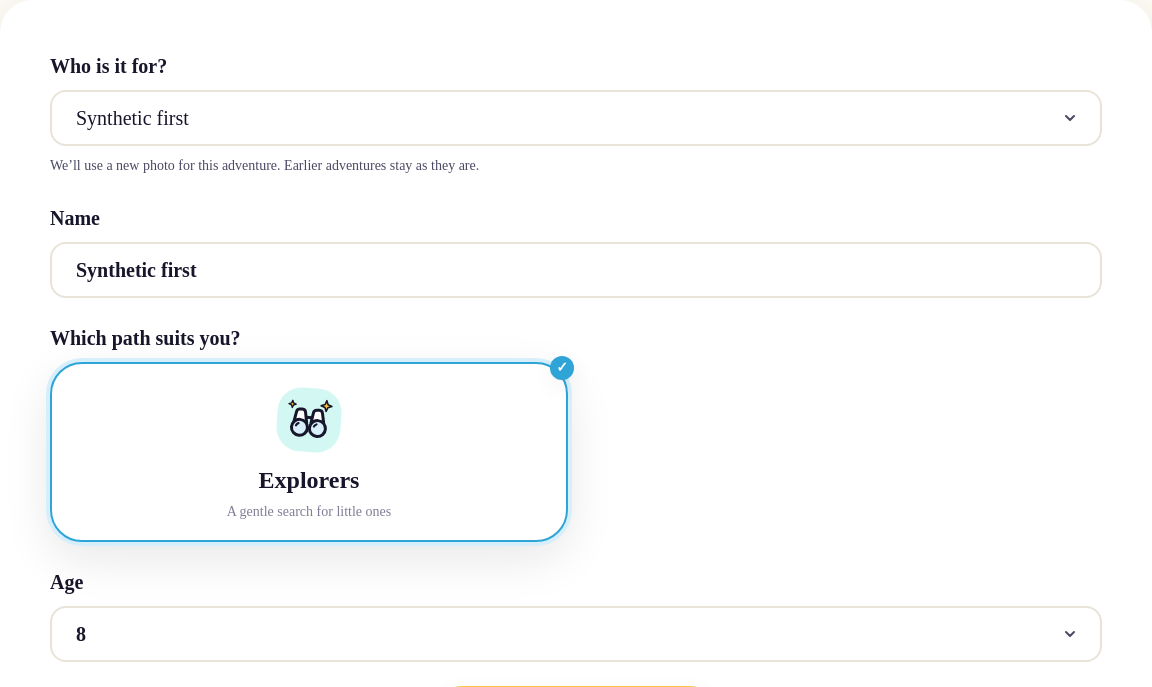
it: immutable source family choices › a different child's fresh adventure uses fresh choices and returning restores the original family
Select "Synthetic second" in the dropdown named "familyChildId" at (576, 118), box [50,90,1102,146]
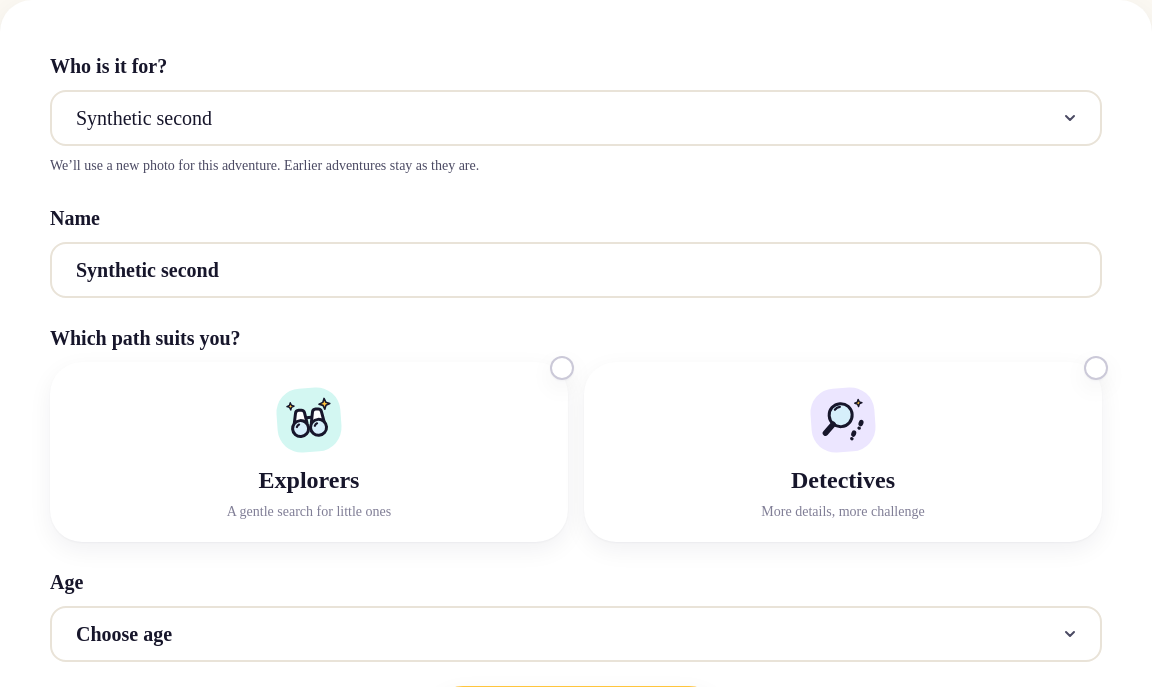
Select "Synthetic first" in the dropdown named "familyChildId" at (576, 118), box [50,90,1102,146]
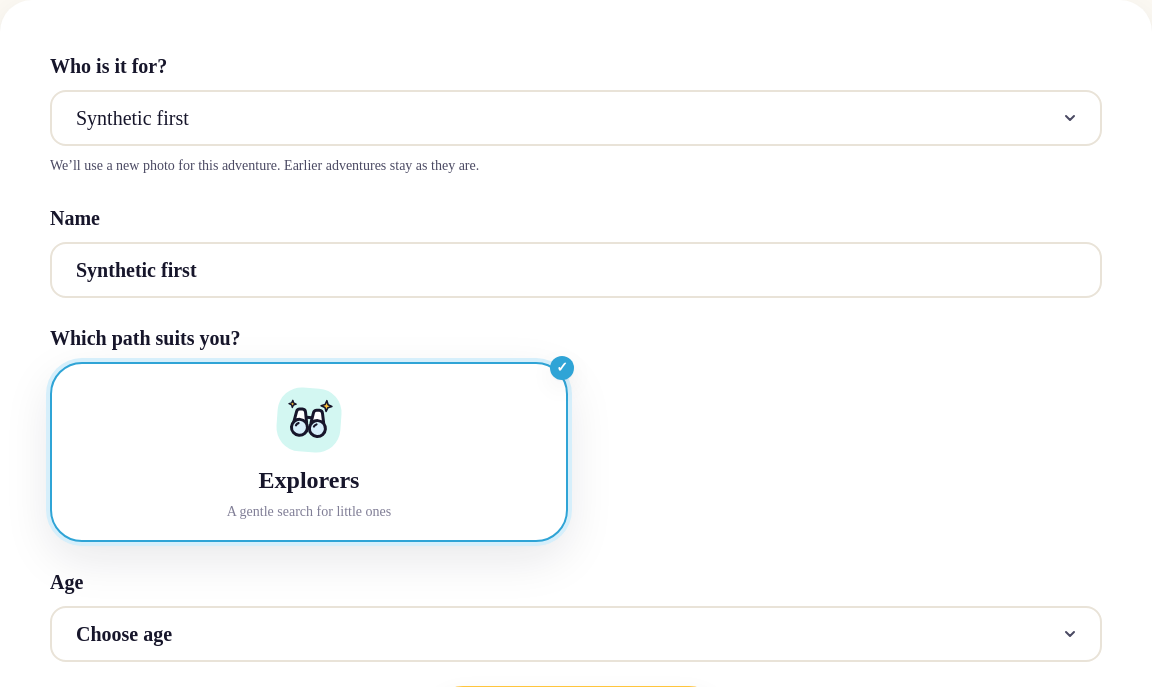
Check: the radio button is checked, box [50,362,568,542]
